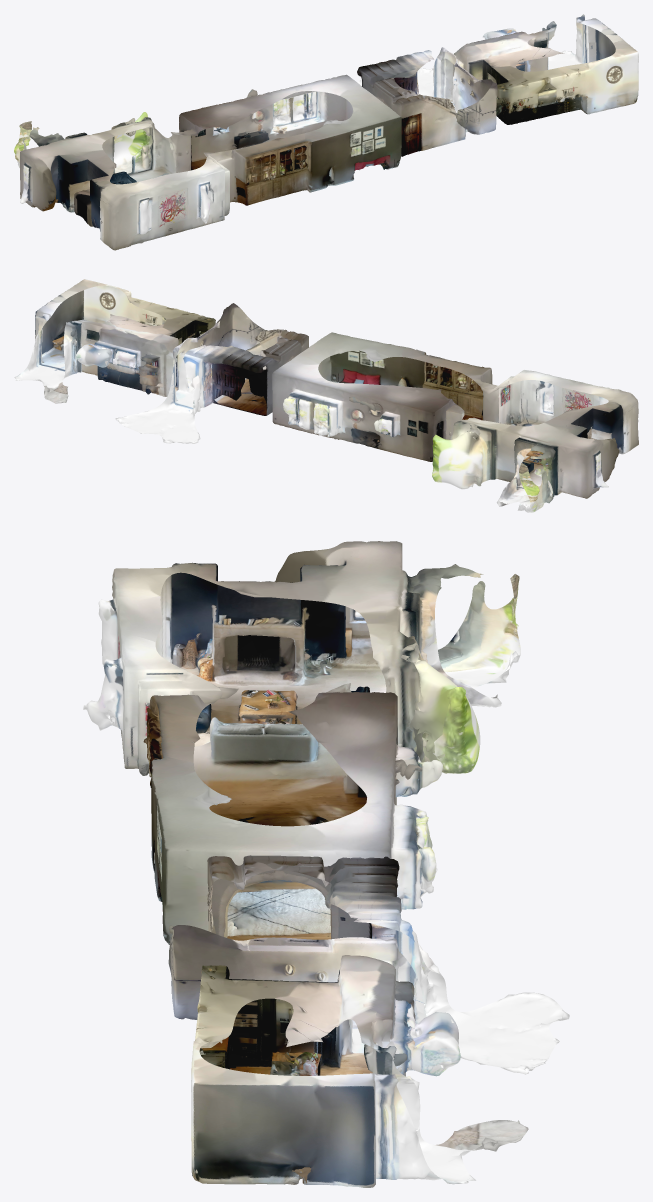
File: house.gltf
3 renders of one model, top to bottom at view 1: azimuth 30°, elevation 25°; view 2: azimuth 150°, elevation 25°; view 3: azimuth 270°, elevation 25°, orthographic. The views are drawn at different scales.
Visible parts, largest first — view 1: Object_6, Object_2, Object_5, Object_7, Object_3, Object_4, Object_8; view 2: Object_6, Object_2, Object_7, Object_3, Object_5, Object_4, Object_8; view 3: Object_6, Object_7, Object_2, Object_5, Object_3, Object_4, Object_8.
Boxes of the visible parts, left/top/right/bottom form: Object_6: left=23, top=14, right=629, bottom=231; Object_2: left=17, top=18, right=638, bottom=250; Object_5: left=23, top=24, right=637, bottom=227; Object_7: left=14, top=28, right=611, bottom=246; Object_3: left=18, top=27, right=636, bottom=241; Object_4: left=16, top=30, right=638, bottom=248; Object_8: left=14, top=29, right=636, bottom=227; Object_6: left=35, top=282, right=624, bottom=508; Object_2: left=35, top=279, right=638, bottom=512; Object_7: left=14, top=303, right=633, bottom=502; Object_3: left=30, top=280, right=619, bottom=512; Object_5: left=14, top=297, right=622, bottom=503; Object_4: left=29, top=315, right=638, bottom=484; Object_8: left=27, top=279, right=621, bottom=510; Object_6: left=83, top=542, right=563, bottom=1183; Object_7: left=98, top=541, right=569, bottom=1183; Object_2: left=101, top=541, right=525, bottom=1185; Object_5: left=92, top=563, right=489, bottom=1184; Object_3: left=84, top=547, right=520, bottom=1187; Object_4: left=112, top=565, right=508, bottom=1184; Object_8: left=106, top=562, right=559, bottom=1184.
Size of the model in its own units: 29.51 by 3.06 by 10.91.
Materials: 7 (7 with a texture image).
